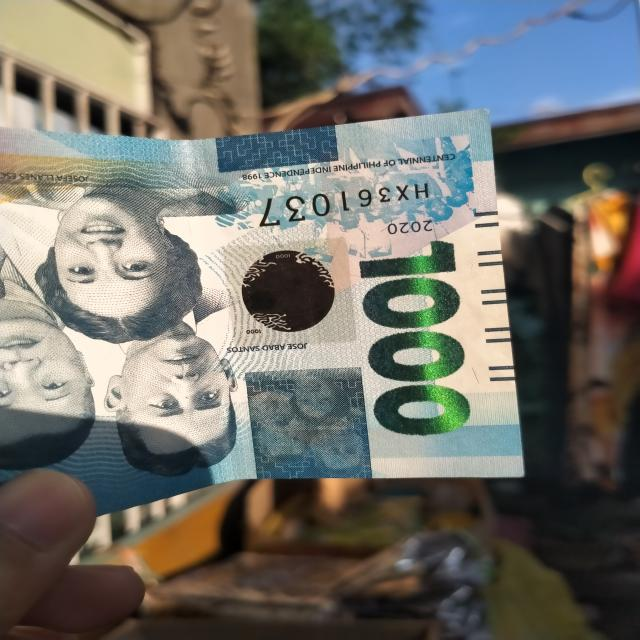concealed_value: (244, 366, 374, 480)
optically_variable_device: (218, 235, 359, 349)
serial_number: (252, 182, 437, 230)
value: (357, 239, 476, 438)
